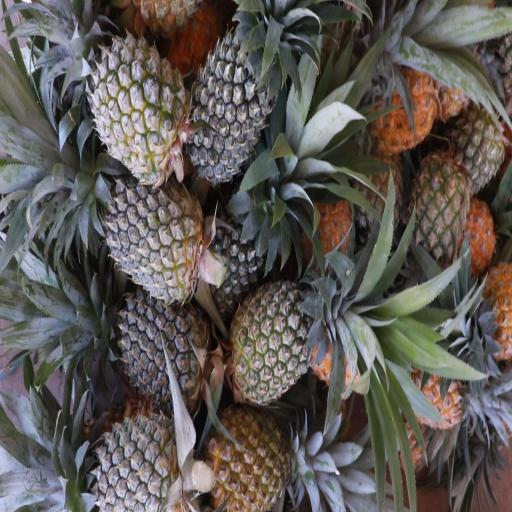------------------------------: (98, 29, 187, 181), (234, 282, 332, 401), (206, 409, 297, 512), (406, 156, 470, 260)
Pineapple - v8 v1: (375, 63, 440, 147), (473, 262, 512, 358)
